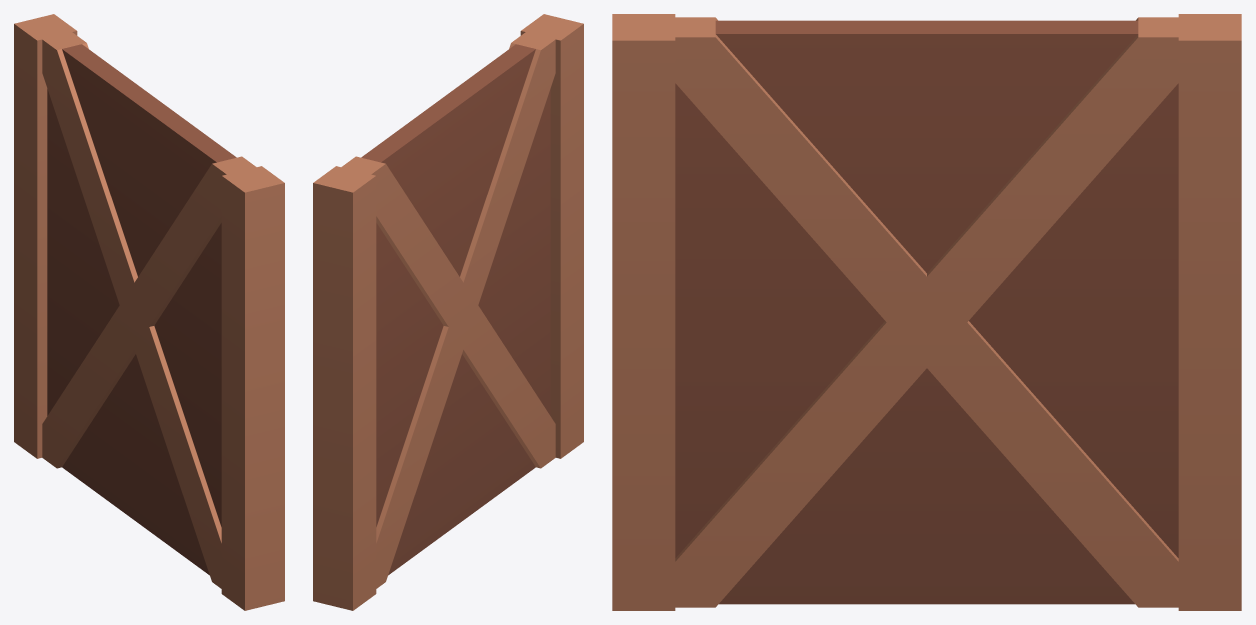
Rendered from wall-wood-detail-cross.glb.
The picture shows the model from 3 angles, left to right: view 1: azimuth 30°, elevation 25°; view 2: azimuth 150°, elevation 25°; view 3: azimuth 270°, elevation 25°; orthographic projection. The views are drawn at different scales.
Visible parts, largest first — view 1: wall-wood-detail-cross; view 2: wall-wood-detail-cross; view 3: wall-wood-detail-cross.
Boxes of the visible parts, bbox=[...] form: wall-wood-detail-cross: bbox=[14, 14, 284, 610]; wall-wood-detail-cross: bbox=[313, 14, 583, 610]; wall-wood-detail-cross: bbox=[612, 14, 1241, 610].
Bounding box in the file's own units: 0.1 × 1 × 1.
1 material, 1 textured.
